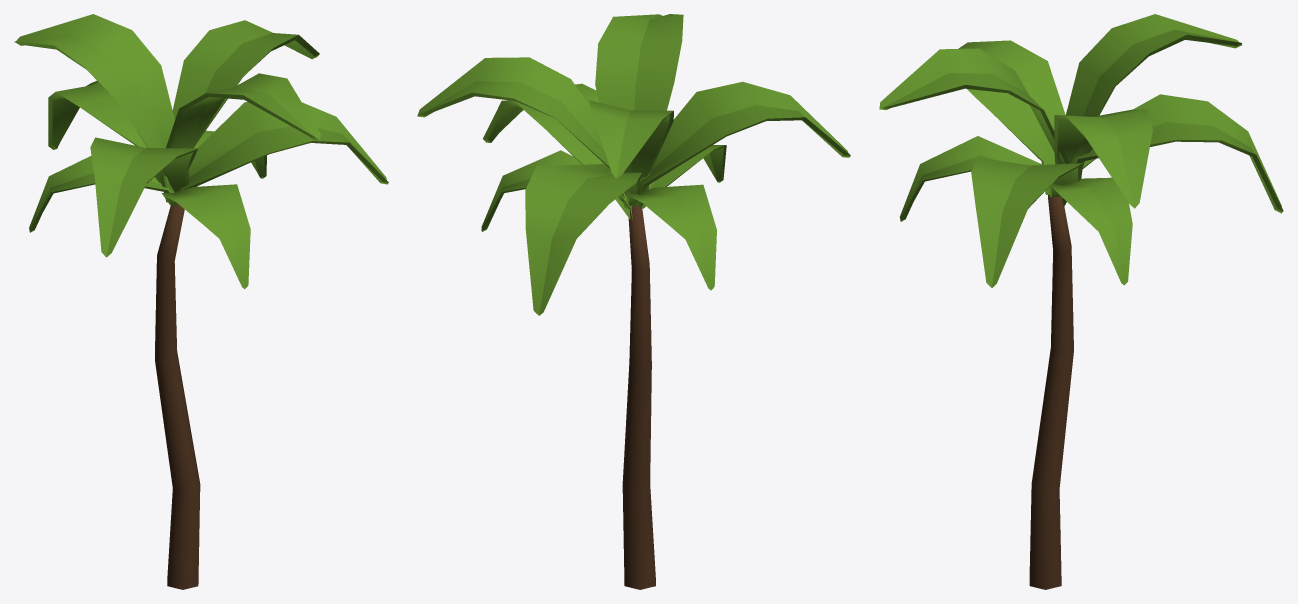
Rendered from palmtree.obj.
The picture shows the model from 3 angles, left to right: view 1: azimuth 30°, elevation 25°; view 2: azimuth 150°, elevation 25°; view 3: azimuth 270°, elevation 25°; orthographic projection. The views are drawn at different scales.
Parts seen in each view (by area): view 1: PalmTree; view 2: PalmTree; view 3: PalmTree.
Part boxes in pixels (x1=…): PalmTree: x1=14, y1=14, x2=388, y2=589; PalmTree: x1=417, y1=14, x2=850, y2=589; PalmTree: x1=879, y1=14, x2=1283, y2=589.
Bounding box in the file's own units: 3.87 × 5.95 × 4.06.
